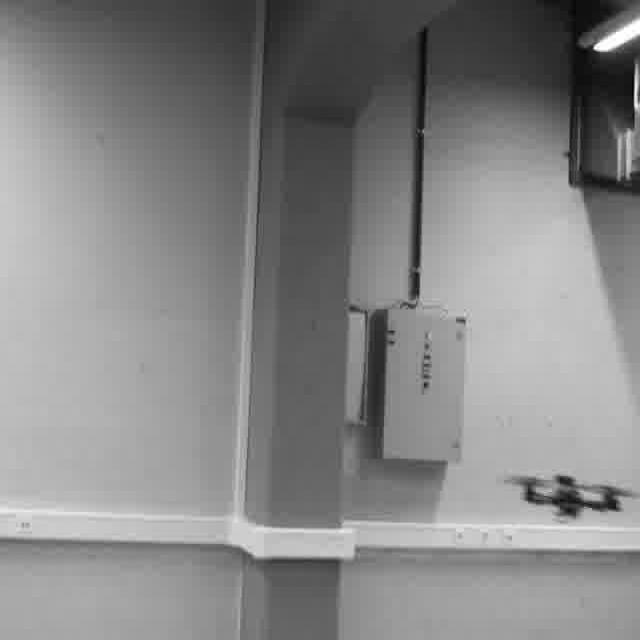drones: (495, 460, 640, 532)
